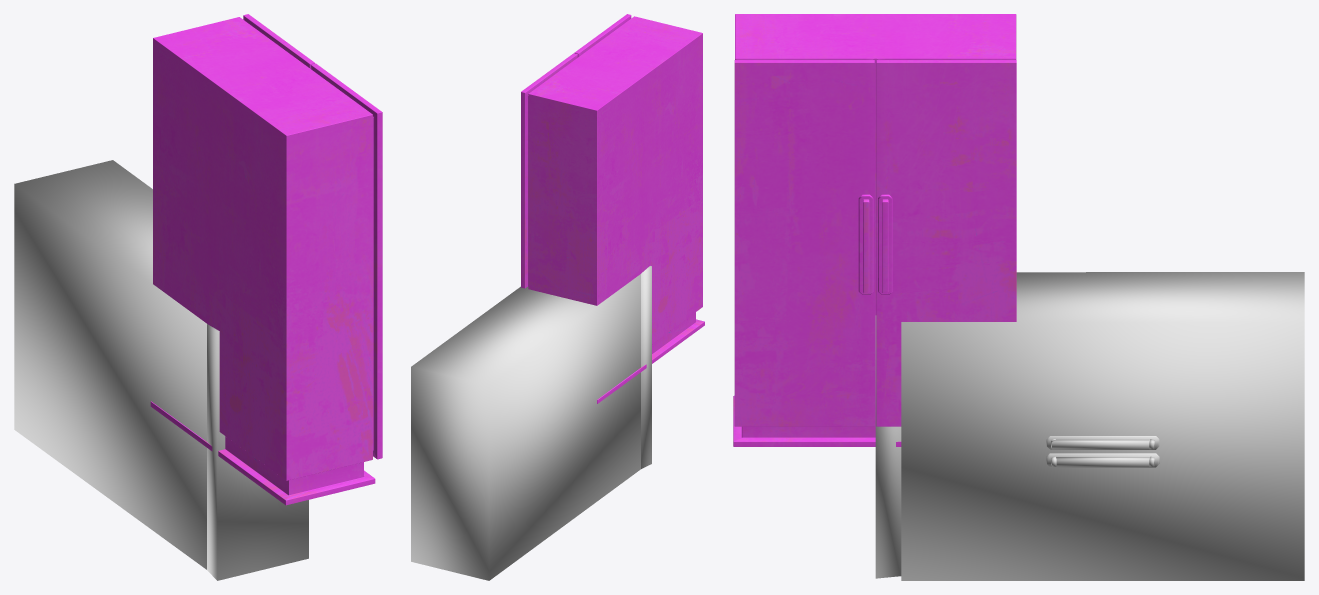
Rendered from SM_ElectricalCabinet.fbx.
The picture shows the model from 3 angles, left to right: view 1: azimuth 30°, elevation 25°; view 2: azimuth 150°, elevation 25°; view 3: azimuth 270°, elevation 25°; orthographic projection. The views are drawn at different scales.
Parts seen in each view (by area): view 1: SM_ElectricalCabinet, SM_ElectricalCabinet_ConvexHulls; view 2: SM_ElectricalCabinet_ConvexHulls, SM_ElectricalCabinet; view 3: SM_ElectricalCabinet_ConvexHulls, SM_ElectricalCabinet.
Part boxes in pixels (left/top/right/bottom): SM_ElectricalCabinet: left=150, top=14, right=382, bottom=505; SM_ElectricalCabinet_ConvexHulls: left=14, top=160, right=308, bottom=580; SM_ElectricalCabinet_ConvexHulls: left=411, top=266, right=651, bottom=580; SM_ElectricalCabinet: left=521, top=14, right=704, bottom=403; SM_ElectricalCabinet_ConvexHulls: left=875, top=272, right=1304, bottom=580; SM_ElectricalCabinet: left=733, top=14, right=1016, bottom=446.
Size of the model in its own units: 0.5718 by 2.56 by 2.55.
